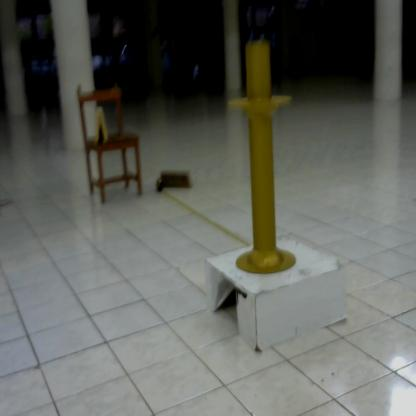pole: (219, 39, 306, 278)
